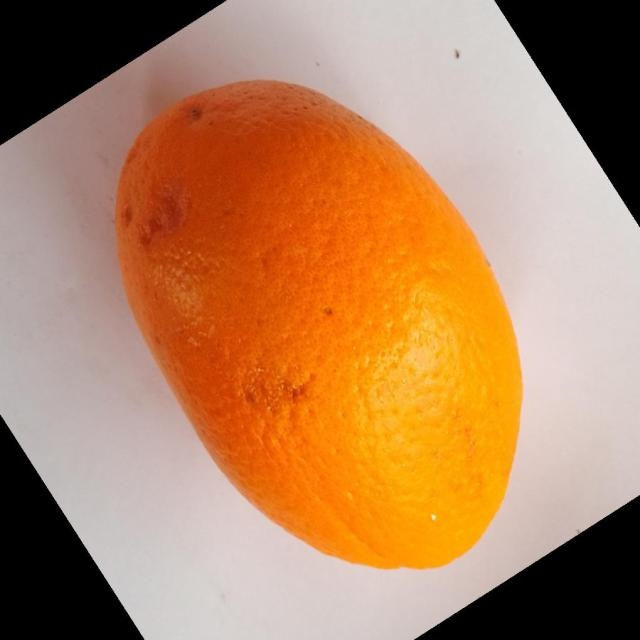agrume: (112, 77, 524, 571)
